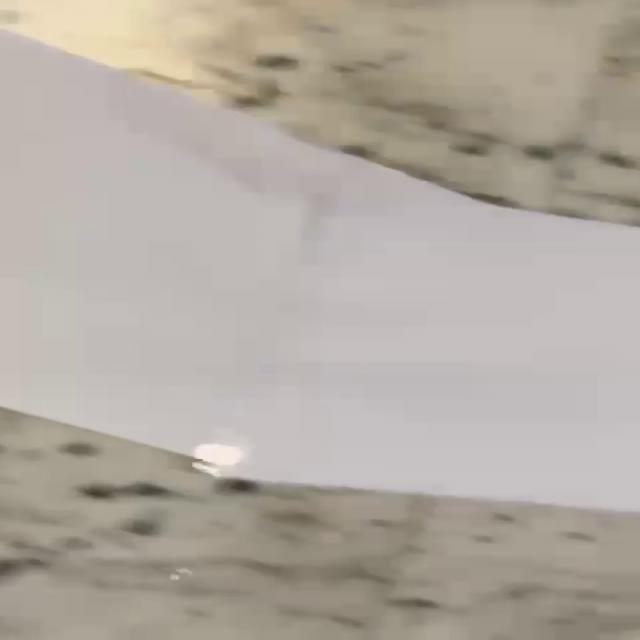road: (0, 29, 640, 515)
